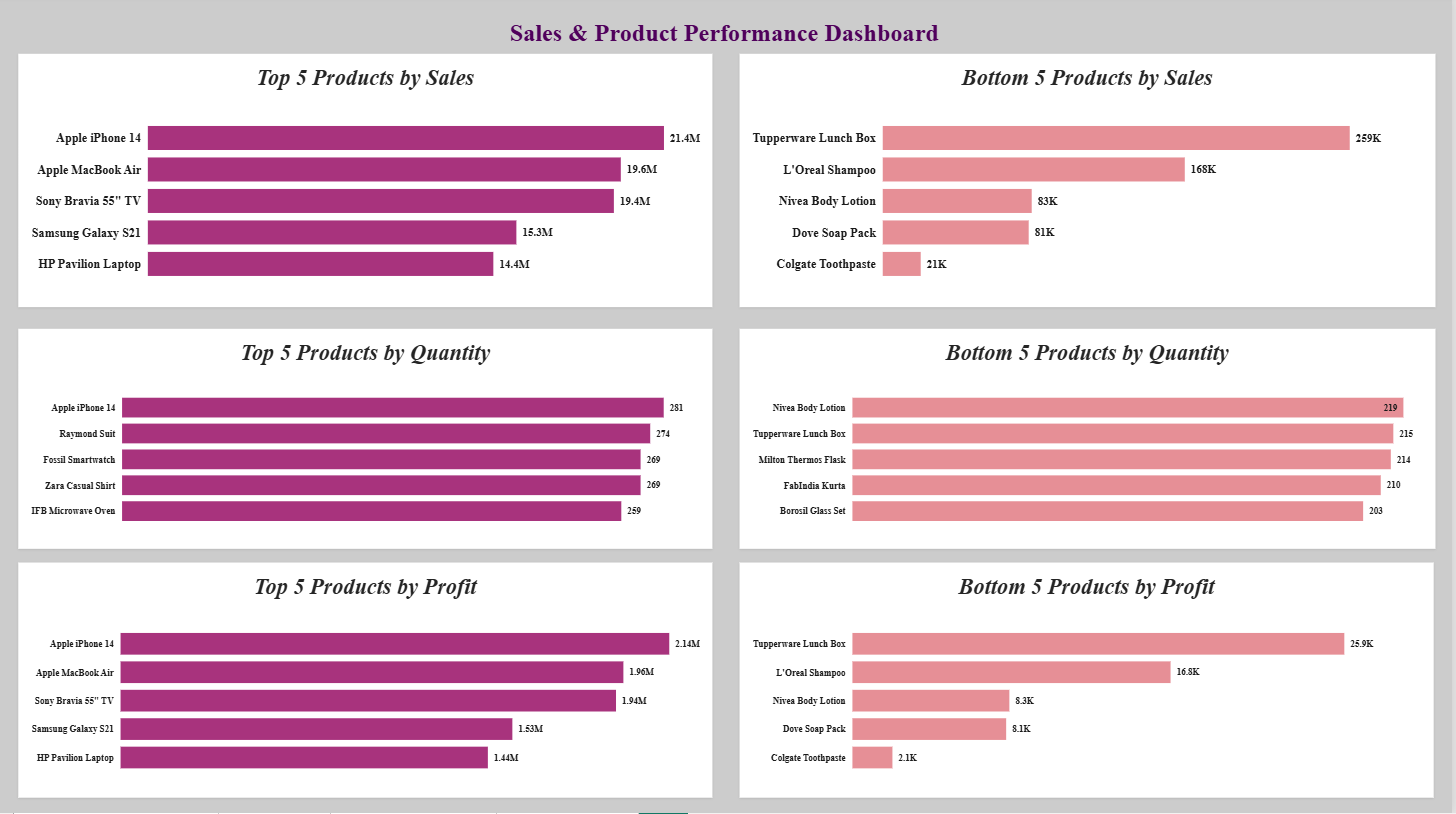

Layout of this report page (visuals, bound fields, positions):
{"tool":"powerbi","page":{"name":"Top/Bottom 5 Analysis","canvas":[1920,1080],"ordinal":0},"visuals":[{"type":"barChart","title":"Top 5 Products by Sales","fields":{"Category":["Dim Product.Product Name"],"Y":["Sum(Fact Table.Net sales)"]},"box":[28,78,916,334],"z":0},{"type":"barChart","title":"Bottom 5 Products by Sales","fields":{"Category":["Dim Product.Product Name"],"Y":["Sum(Fact Table.Net sales)"]},"box":[980,78,918,334],"z":1000},{"type":"barChart","title":"Top 5 Products by Quantity","fields":{"Category":["Dim Product.Product Name"],"Y":["Sum(Fact Table.Units Sold)"]},"box":[28,440,916,290],"z":2000},{"type":"barChart","title":"Bottom 5 Products by Quantity","fields":{"Category":["Dim Product.Product Name"],"Y":["Sum(Fact Table.Units Sold)"]},"box":[980,440,918,290],"z":3000},{"type":"barChart","title":"Top 5 Products by Profit","fields":{"Category":["Dim Product.Product Name"],"Y":["Sum(Fact Table.Profit)"]},"box":[28,748,916,310],"z":4000},{"type":"barChart","title":"Bottom 5 Products by Profit","fields":{"Category":["Dim Product.Product Name"],"Y":["Sum(Fact Table.Profit)"]},"box":[980,748,916,310],"z":5000},{"type":"textbox","box":[604,32,712,92],"z":5007}]}

Visuals, with their boxes in screenshot pixels (x1, y1, x2, y2), scaled from the page's 1920x1080 canvas onto the 1456x814 screenshot:
"Top 5 Products by Sales" barChart: <region>21, 59, 716, 311</region>
"Bottom 5 Products by Sales" barChart: <region>743, 59, 1439, 311</region>
"Top 5 Products by Quantity" barChart: <region>21, 332, 716, 550</region>
"Bottom 5 Products by Quantity" barChart: <region>743, 332, 1439, 550</region>
"Top 5 Products by Profit" barChart: <region>21, 564, 716, 797</region>
"Bottom 5 Products by Profit" barChart: <region>743, 564, 1438, 797</region>
textbox: <region>458, 24, 998, 93</region>
